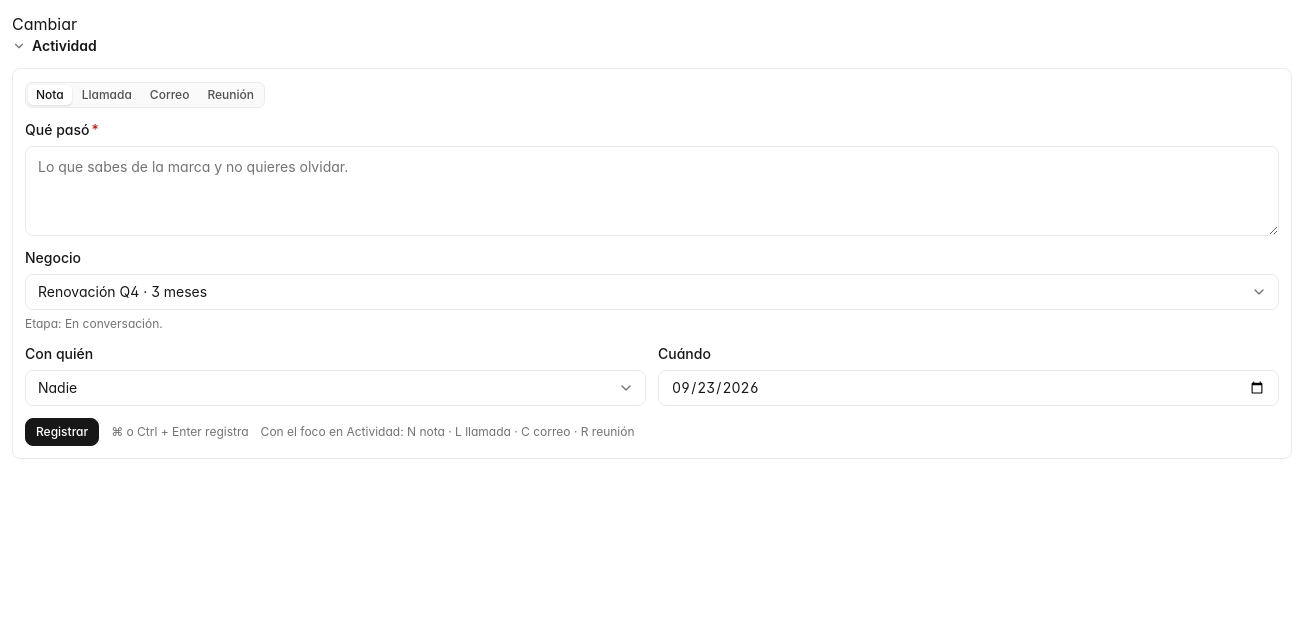
Test: RegistroRapido › la pregunta se va en cuanto la acción del negocio cambia por otro camino (su línea, otra pestaña)
Click the button "Registrar" at (62, 432), box [25, 418, 99, 446]
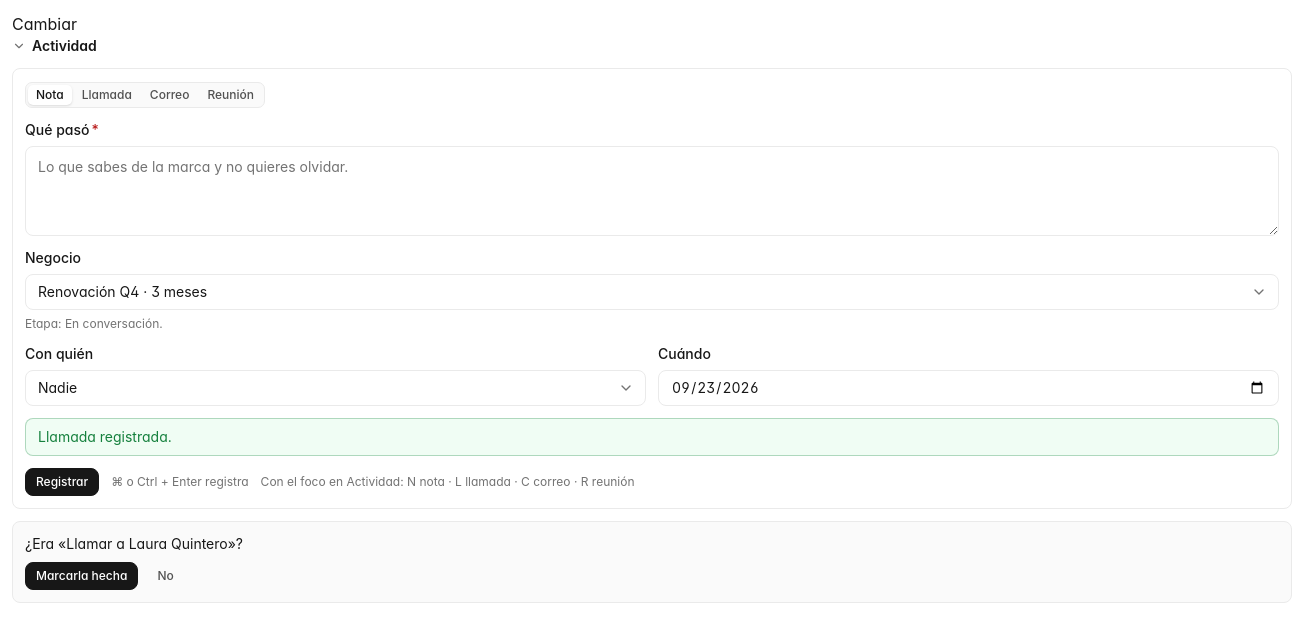
Expected: the element named "Siguiente acción pendiente" is shown, [12, 521, 1291, 603]
